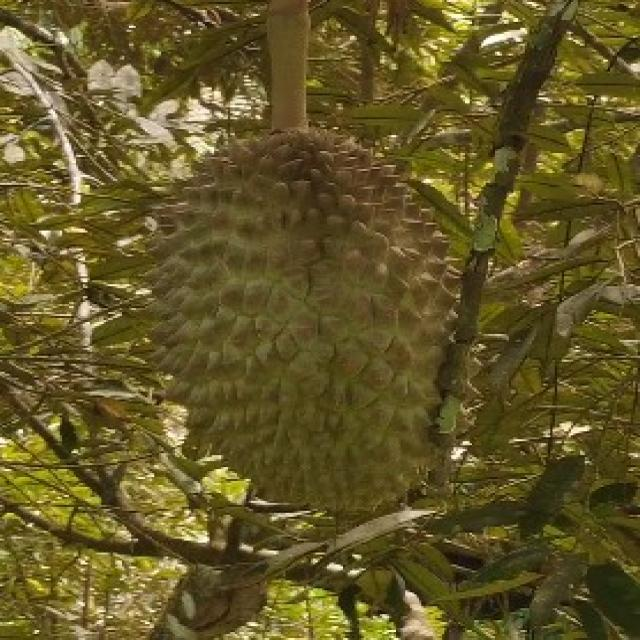mature: (132, 126, 475, 519)
